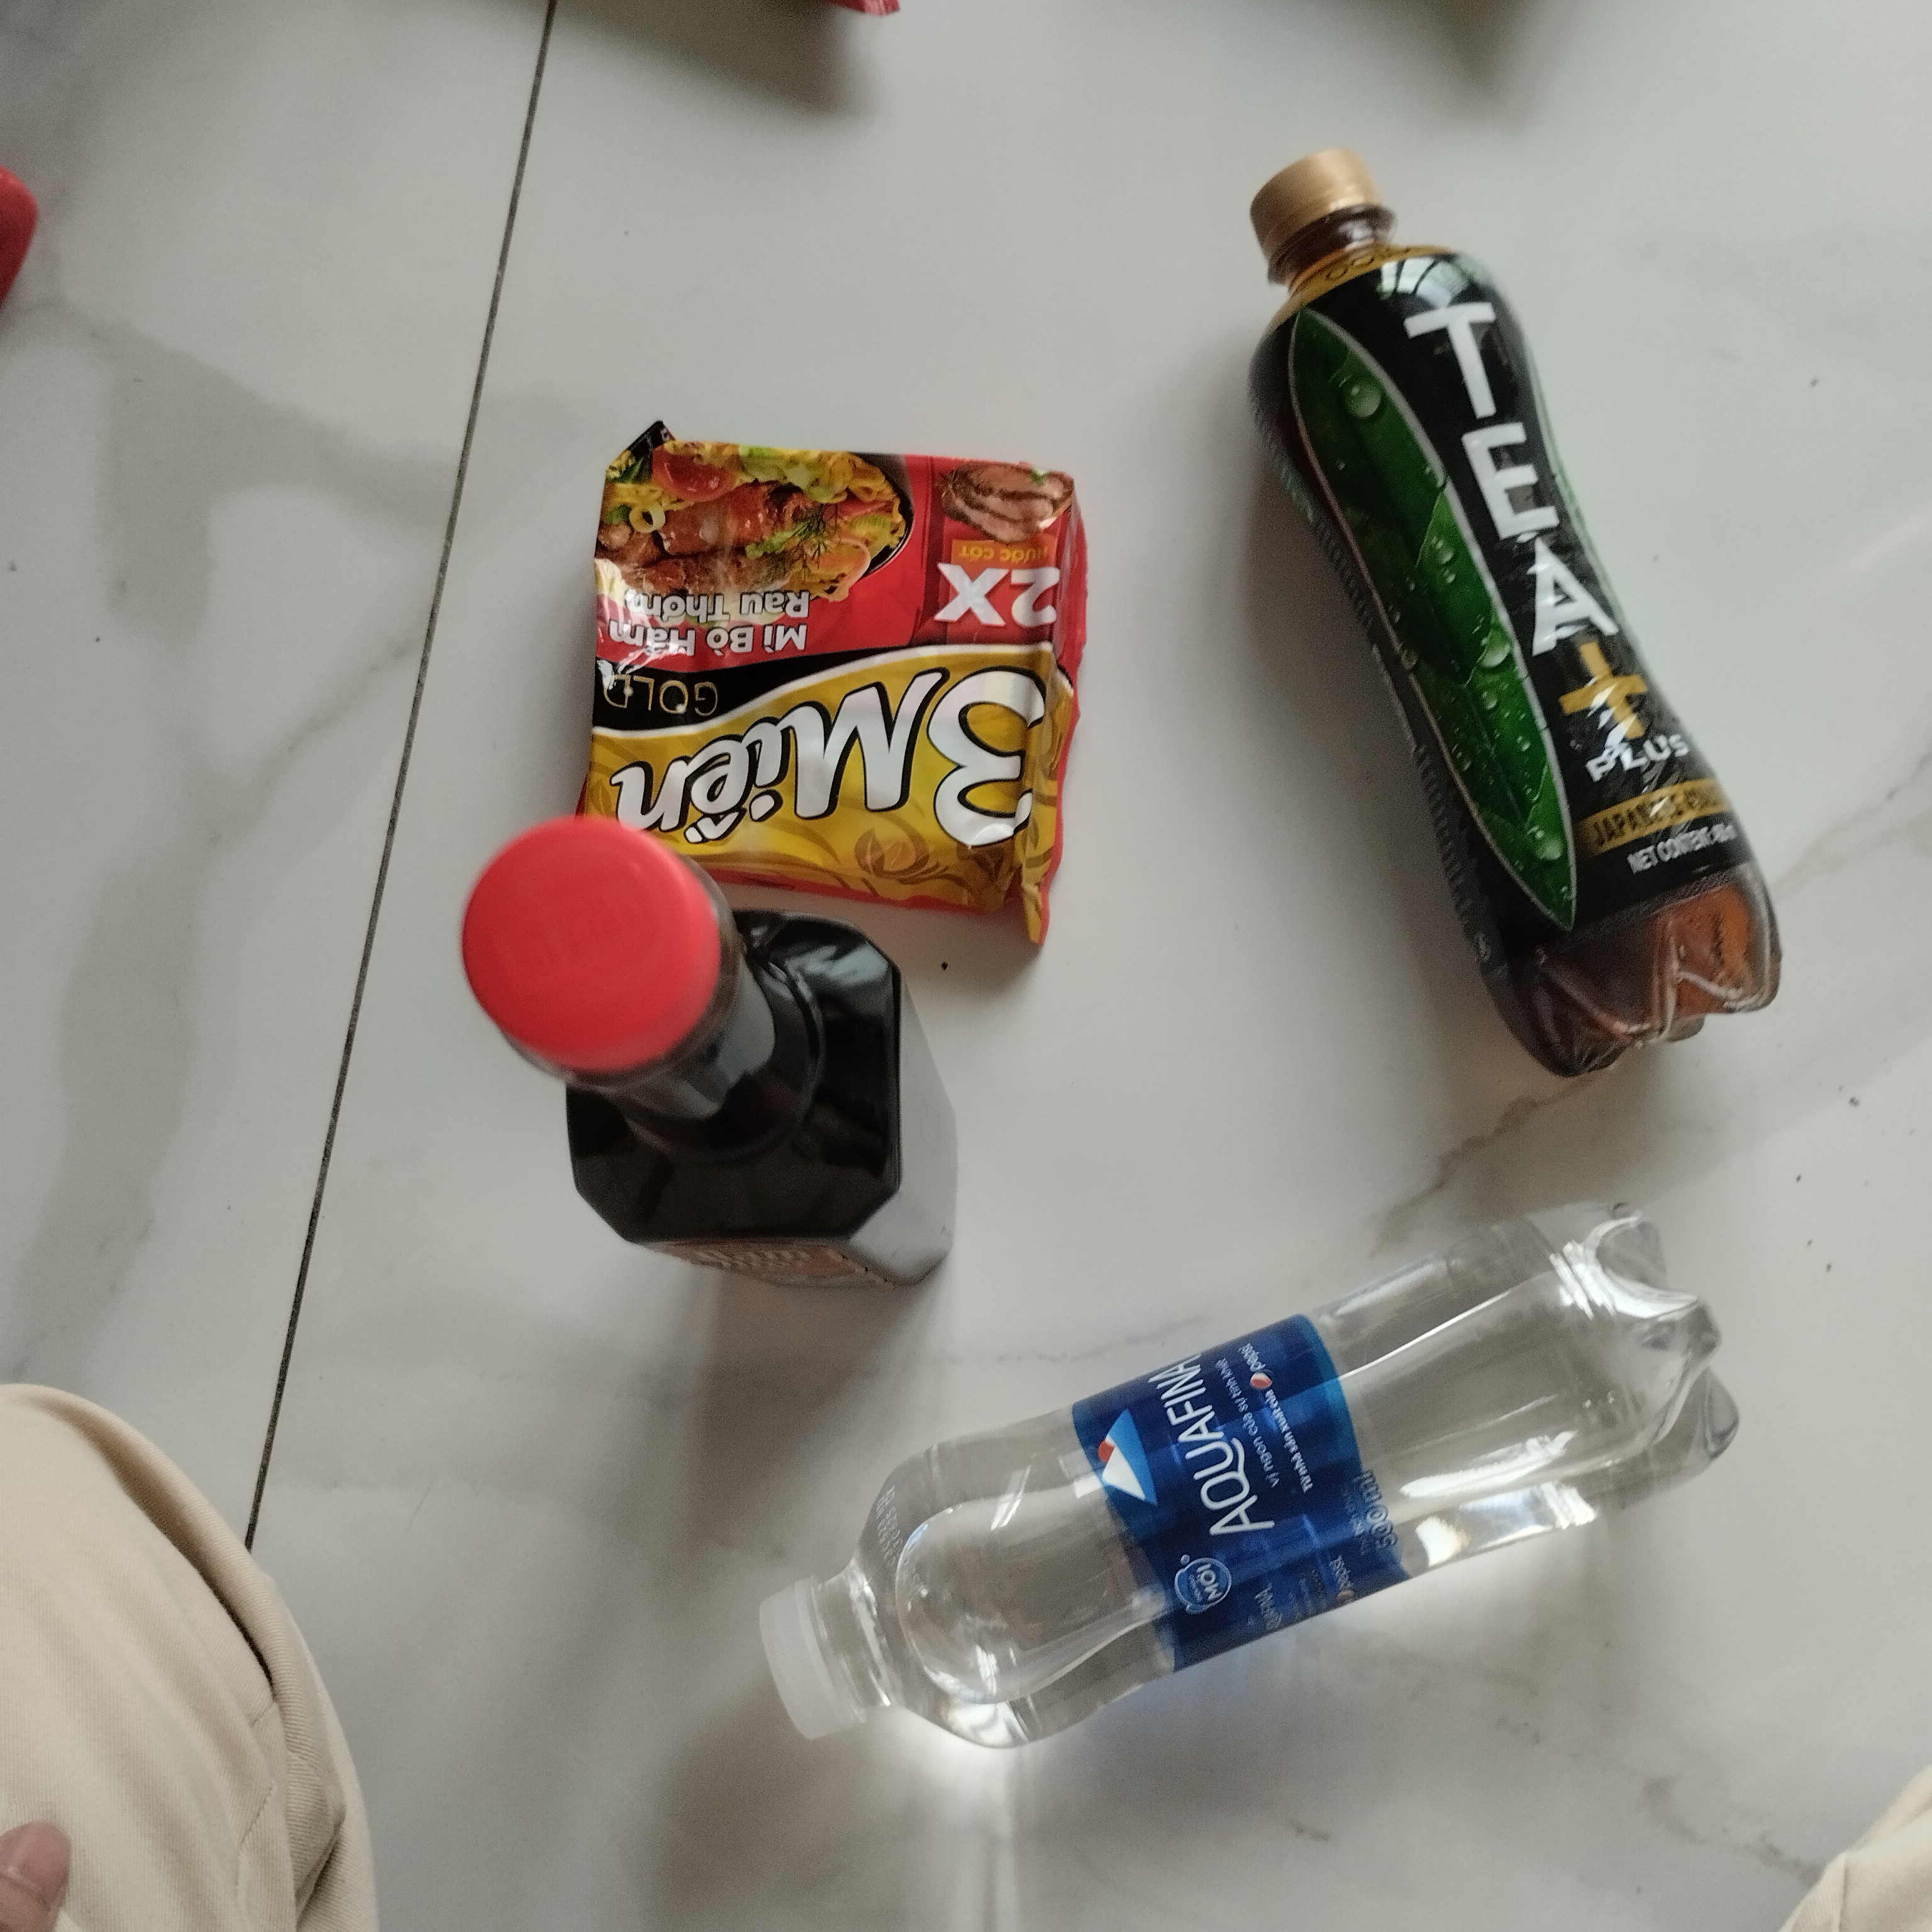3mien: (570, 414, 1100, 966)
Aquafina: (755, 1200, 1744, 1783)
Namngu: (464, 814, 968, 1307)
Olong: (1223, 149, 1787, 1083)
